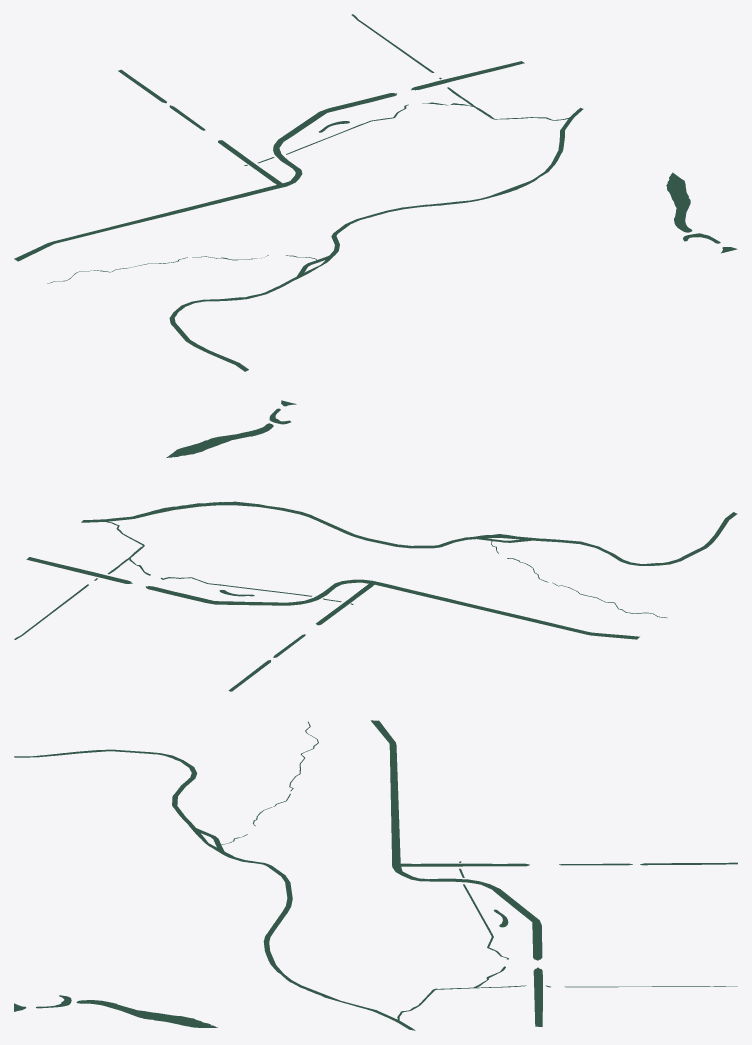
File: Water.glb
3 renders of one model, top to bottom at view 1: azimuth 30°, elevation 25°; view 2: azimuth 150°, elevation 25°; view 3: azimuth 270°, elevation 25°, orthographic. The views are drawn at different scales.
Visible parts, largest first — view 1: Water; view 2: Water; view 3: Water.
Part boxes in pixels (bbox=[...]): Water: bbox=[14, 14, 737, 371]; Water: bbox=[14, 400, 737, 691]; Water: bbox=[14, 720, 737, 1030].
Size of the model in its own units: 2000 by 13.14 by 2000.
